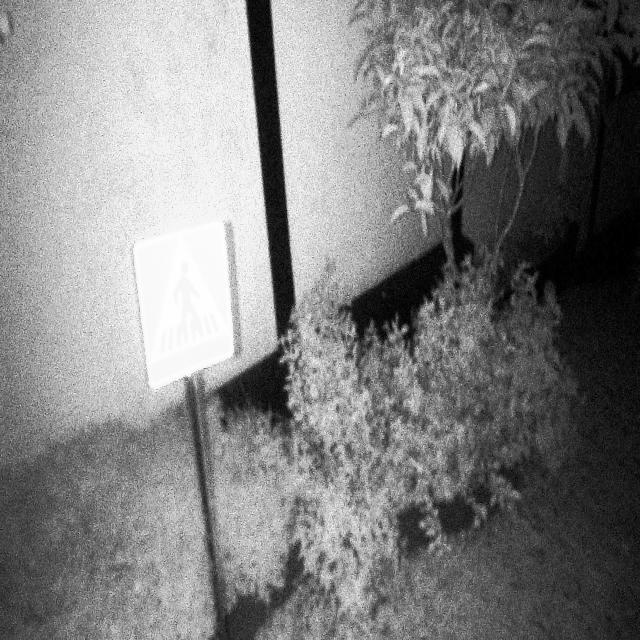Sign: (132, 217, 236, 392)
